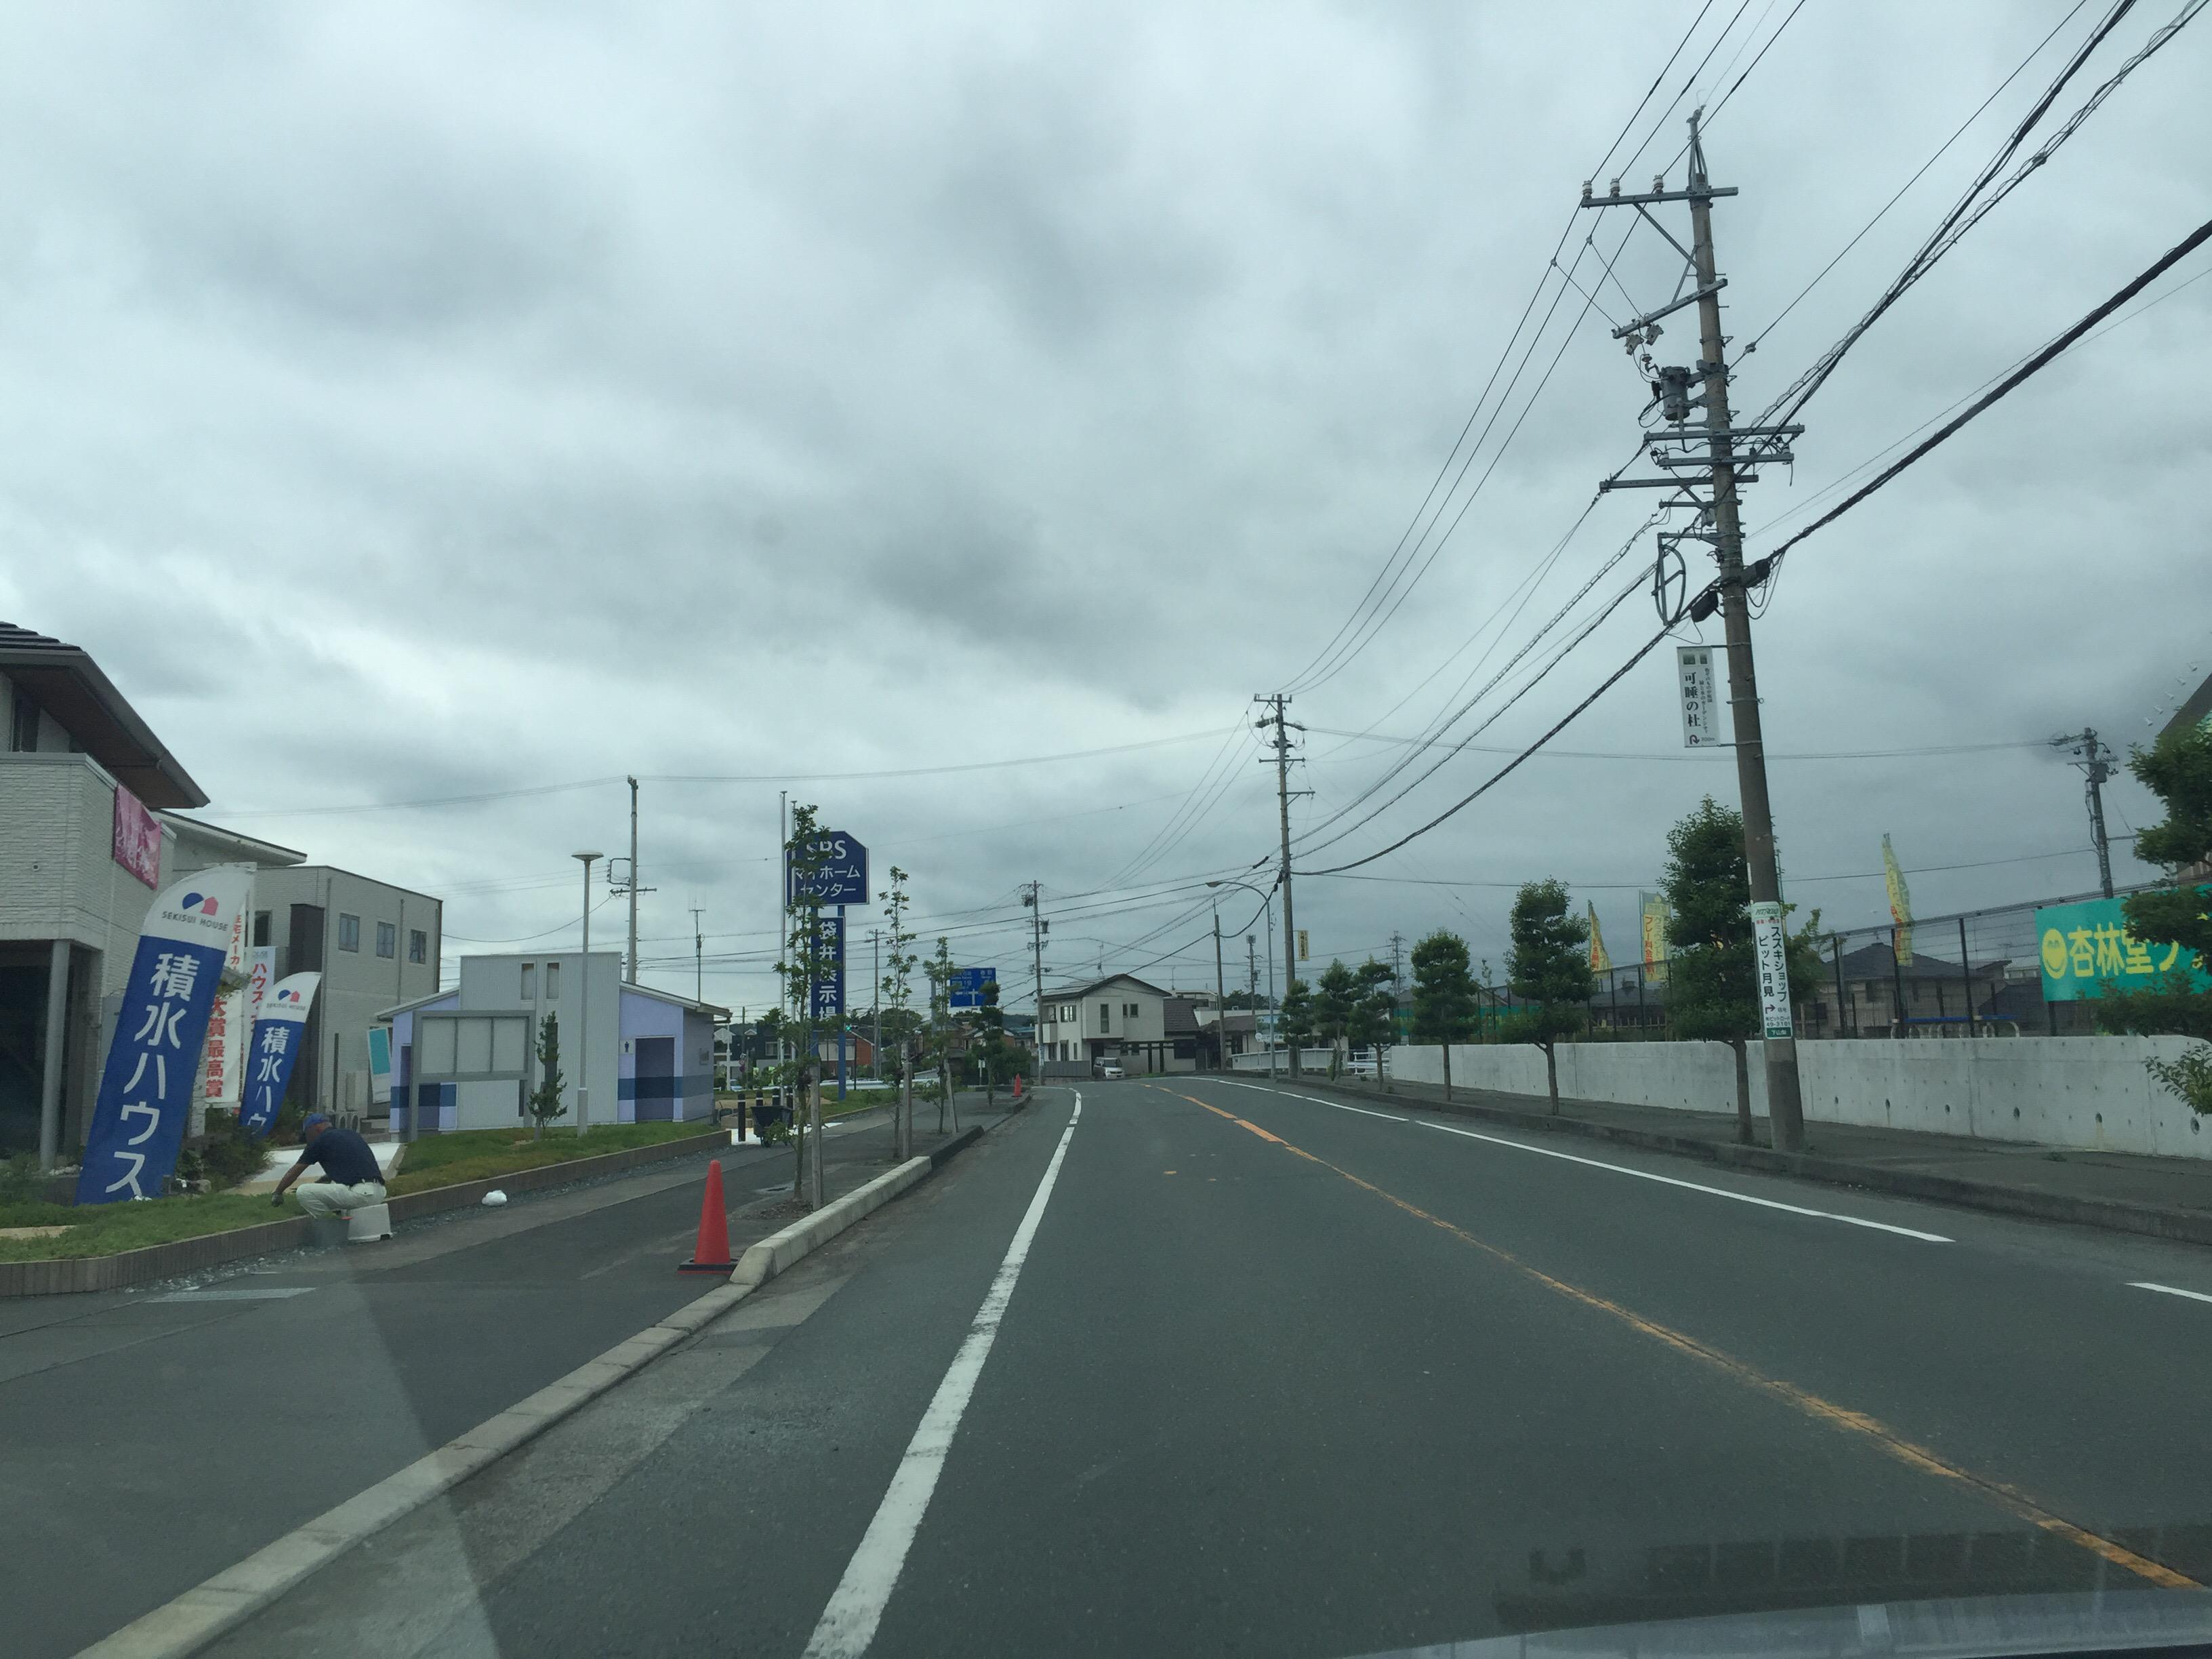vinyl banner: (2040, 859, 2212, 1030)
